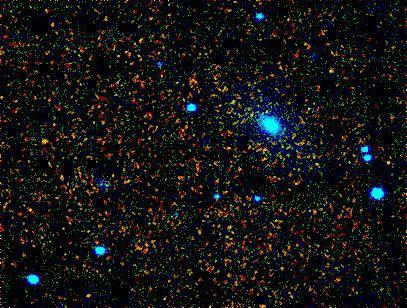star: (75, 278, 105, 308)
